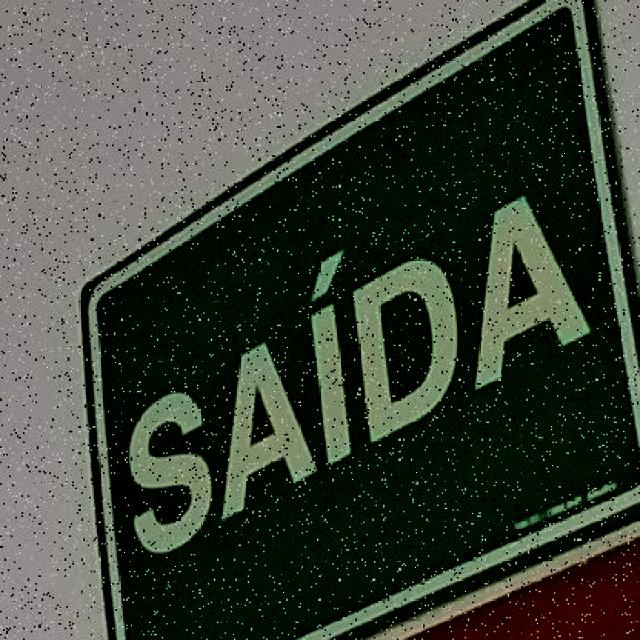emergency_exit: (79, 1, 639, 638)
